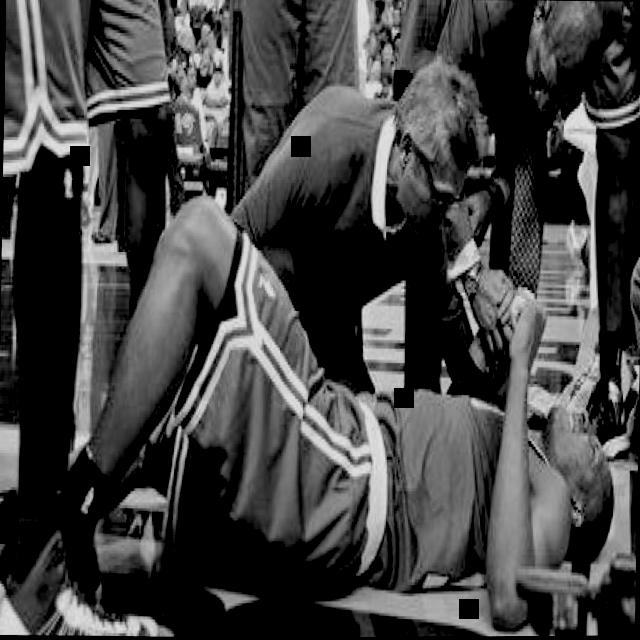Fall-Detected: (15, 196, 632, 622)
